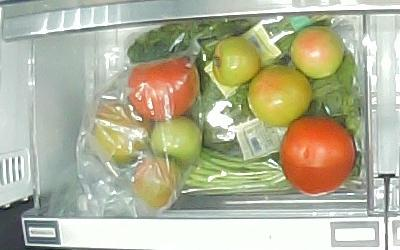tomato: (279, 116, 355, 194), (248, 65, 311, 126), (291, 26, 344, 78), (212, 37, 261, 86)
tomato_vinyl: (129, 57, 199, 121), (95, 104, 153, 166), (132, 156, 180, 211), (152, 116, 202, 168)
